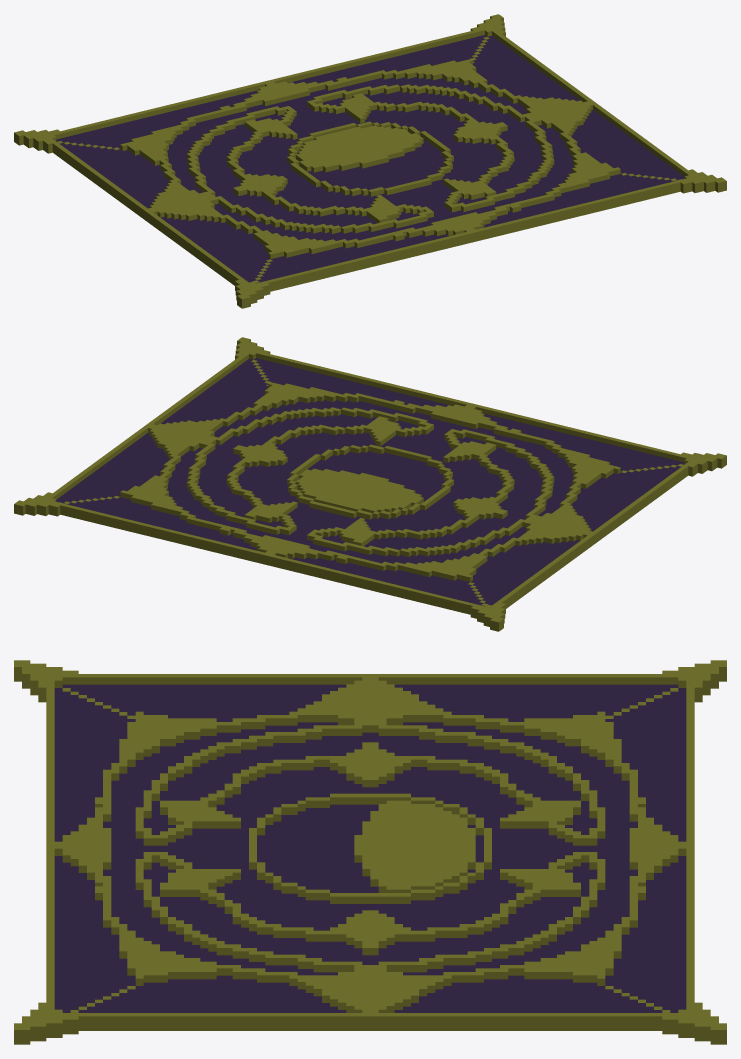
Rendered from WizardCarpet.obj.
3 views of the same model, one above another, from view 1: azimuth 30°, elevation 25°; view 2: azimuth 150°, elevation 25°; view 3: azimuth 270°, elevation 25° (orthographic). The views are drawn at different scales.
Visible parts, largest first — view 1: WizardCarpet; view 2: WizardCarpet; view 3: WizardCarpet.
Part boxes in pixels (box(x1,y1,x2,y2)): WizardCarpet: box(14, 14, 726, 308); WizardCarpet: box(14, 337, 726, 631); WizardCarpet: box(14, 660, 726, 1044).
Size of the model in its own units: 108 by 2 by 88.
1 material, 1 textured.
